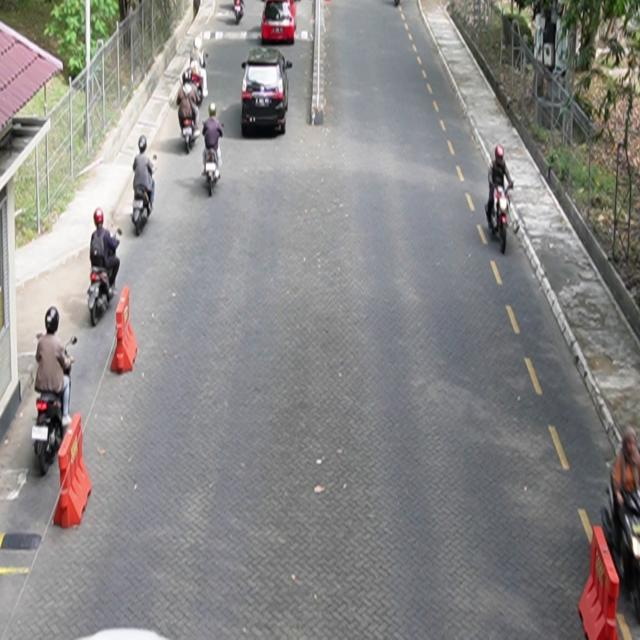car: (242, 48, 294, 138), (261, 1, 297, 45)
